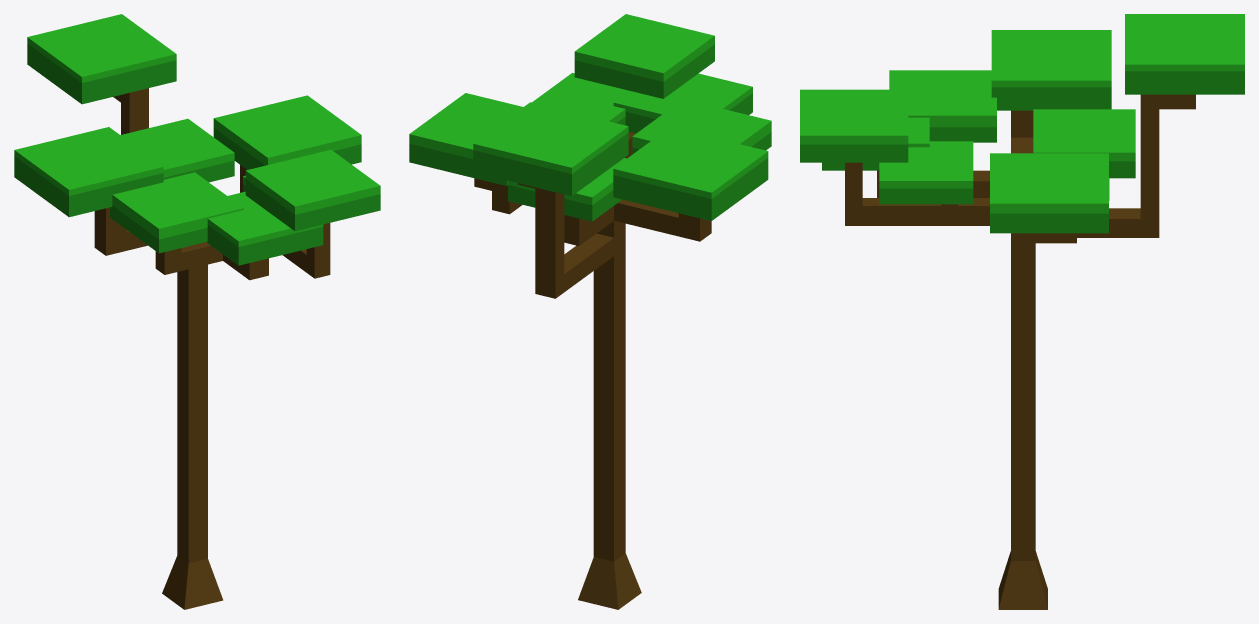
The model's file is tall3.fbx.
3 views of the same model, side by side, from view 1: azimuth 30°, elevation 25°; view 2: azimuth 150°, elevation 25°; view 3: azimuth 270°, elevation 25° (orthographic). The views are drawn at different scales.
Parts seen in each view (by area): view 1: tall3; view 2: tall3; view 3: tall3.
Part boxes in pixels (<box>): tall3: <box>14,14,380,609</box>; tall3: <box>409,14,771,609</box>; tall3: <box>800,14,1244,609</box>.
Bounding box in the file's own units: 1412 × 2319 × 1697.
Materials: 1 (1 with a texture image).
